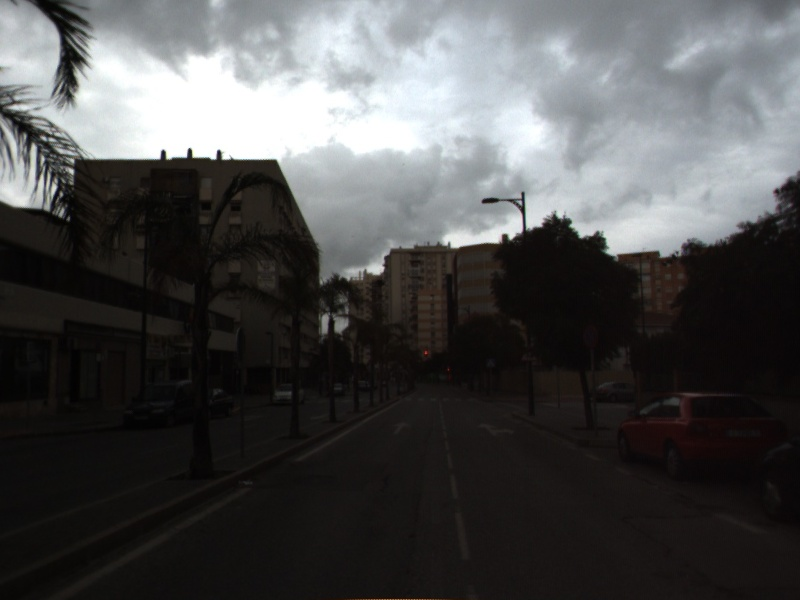STRAIGHT: (389, 420, 413, 437)
STRAIGHT_RIGHT: (475, 421, 516, 438)
